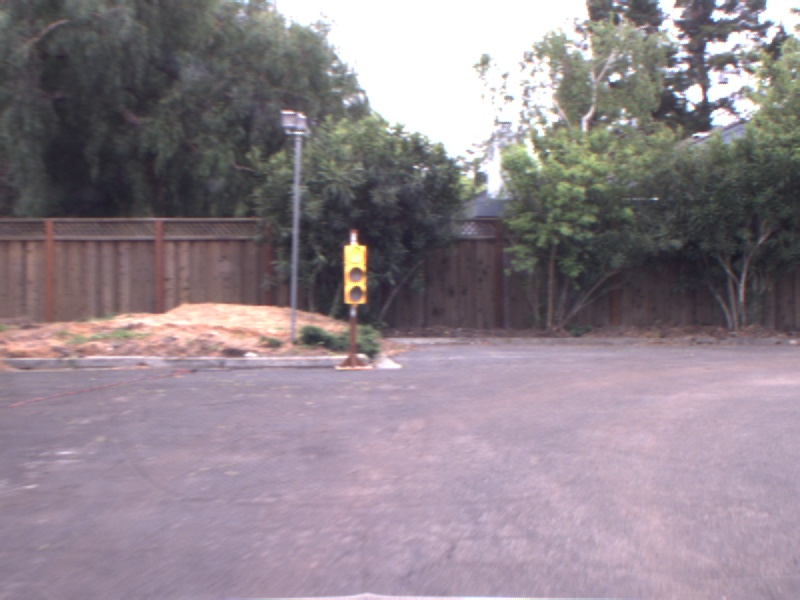red: (342, 238, 374, 312)
